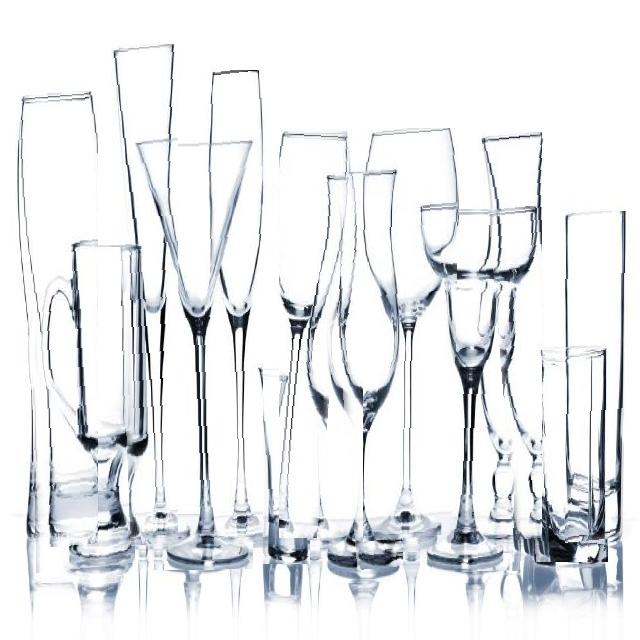Glass: (131, 142, 253, 570), (420, 210, 531, 574), (363, 128, 459, 542), (16, 91, 98, 548), (30, 247, 136, 574), (112, 44, 178, 546), (325, 172, 403, 570), (279, 128, 353, 538), (208, 70, 264, 546), (482, 132, 542, 540), (565, 211, 627, 543), (520, 344, 608, 562), (256, 370, 310, 564)
